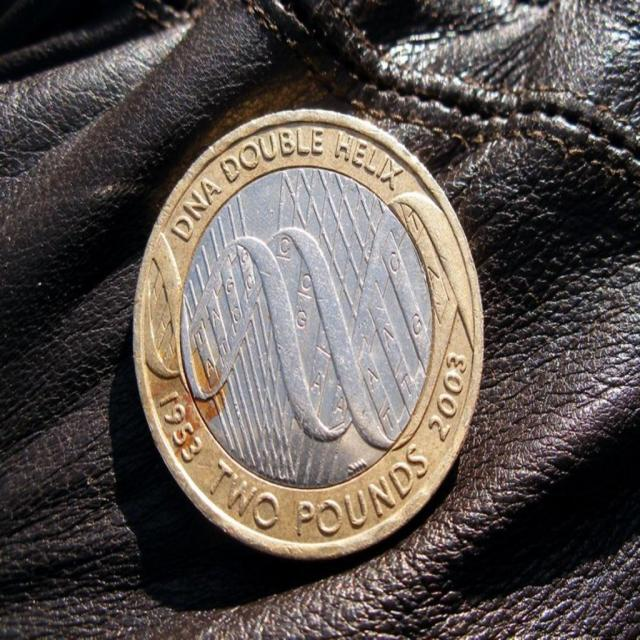Coin: (134, 106, 488, 559)
